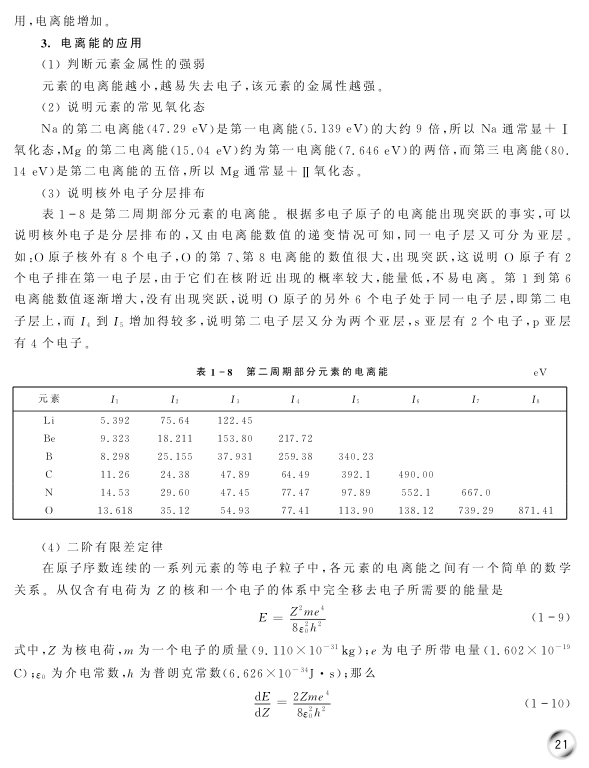table: (12, 386, 568, 520)
